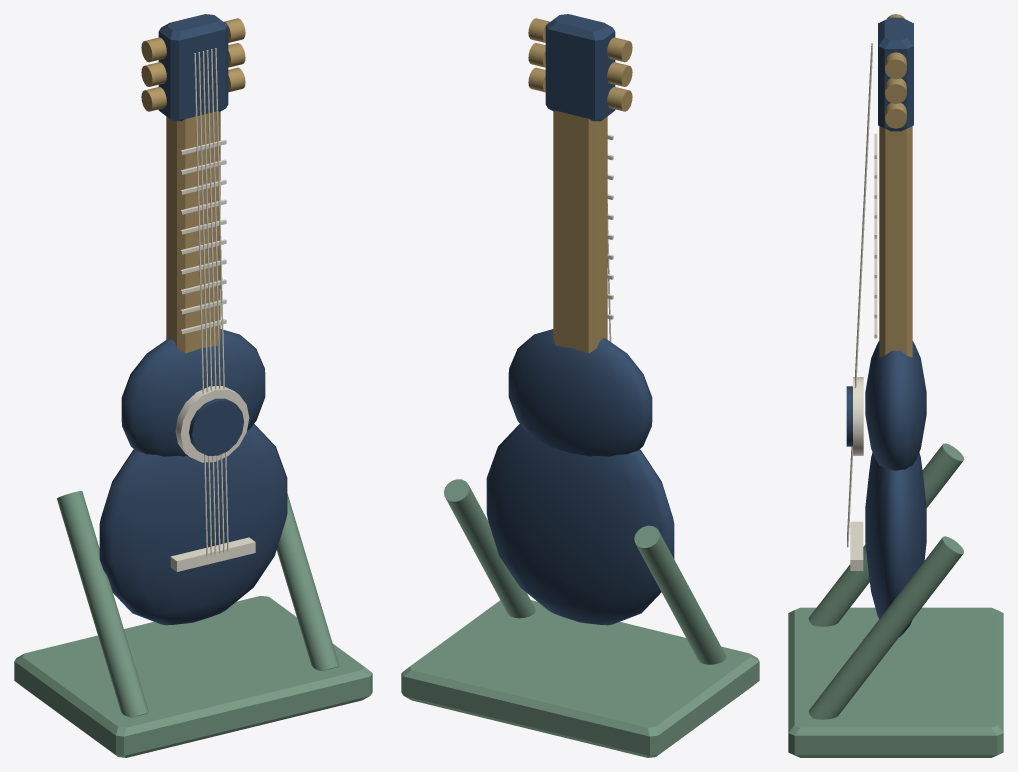
The model's file is v18_special_guitar_stand.glb.
3 views of the same model, side by side, from view 1: azimuth 30°, elevation 25°; view 2: azimuth 150°, elevation 25°; view 3: azimuth 270°, elevation 25° (orthographic).
Parts seen in each view (by area): view 1: _MeshInstance3D_5556, _MeshInstance3D_5559, _MeshInstance3D_5561, _MeshInstance3D_5560, _MeshInstance3D_5557, _MeshInstance3D_5562, _MeshInstance3D_5558, _MeshInstance3D_5564, _MeshInstance3D_5563, _MeshInstance3D_5565, _MeshInstance3D_5570, _MeshInstance3D_5572 (+4 smaller); view 2: _MeshInstance3D_5556, _MeshInstance3D_5559, _MeshInstance3D_5560, _MeshInstance3D_5561, _MeshInstance3D_5562, _MeshInstance3D_5557, _MeshInstance3D_5558; view 3: _MeshInstance3D_5556, _MeshInstance3D_5561, _MeshInstance3D_5559, _MeshInstance3D_5560, _MeshInstance3D_5558, _MeshInstance3D_5557, _MeshInstance3D_5562, _MeshInstance3D_5576, _MeshInstance3D_5563, _MeshInstance3D_5565, _MeshInstance3D_5577, _MeshInstance3D_5569 (+2 smaller).
Part boxes in pixels (bbox=[...]): _MeshInstance3D_5556: bbox=[14, 595, 372, 757]; _MeshInstance3D_5559: bbox=[99, 424, 287, 625]; _MeshInstance3D_5561: bbox=[166, 111, 220, 353]; _MeshInstance3D_5560: bbox=[121, 329, 265, 456]; _MeshInstance3D_5557: bbox=[57, 491, 148, 717]; _MeshInstance3D_5562: bbox=[158, 14, 228, 121]; _MeshInstance3D_5558: bbox=[276, 493, 339, 670]; _MeshInstance3D_5564: bbox=[189, 398, 243, 455]; _MeshInstance3D_5563: bbox=[175, 386, 249, 462]; _MeshInstance3D_5565: bbox=[170, 537, 255, 571]; _MeshInstance3D_5570: bbox=[202, 51, 216, 554]; _MeshInstance3D_5572: bbox=[206, 50, 220, 553]; _MeshInstance3D_5556: bbox=[401, 600, 759, 757]; _MeshInstance3D_5559: bbox=[486, 424, 674, 625]; _MeshInstance3D_5560: bbox=[508, 329, 652, 456]; _MeshInstance3D_5561: bbox=[553, 111, 607, 353]; _MeshInstance3D_5562: bbox=[545, 14, 615, 121]; _MeshInstance3D_5557: bbox=[634, 525, 726, 664]; _MeshInstance3D_5558: bbox=[444, 479, 535, 618]; _MeshInstance3D_5556: bbox=[788, 607, 1003, 757]; _MeshInstance3D_5561: bbox=[879, 126, 912, 357]; _MeshInstance3D_5559: bbox=[865, 452, 926, 637]; _MeshInstance3D_5560: bbox=[865, 341, 926, 470]; _MeshInstance3D_5558: bbox=[808, 536, 963, 719]; _MeshInstance3D_5557: bbox=[808, 443, 964, 626]; _MeshInstance3D_5562: bbox=[878, 17, 913, 131]; _MeshInstance3D_5576: bbox=[847, 53, 872, 547]; _MeshInstance3D_5563: bbox=[853, 377, 863, 455]; _MeshInstance3D_5565: bbox=[850, 521, 863, 570]; _MeshInstance3D_5577: bbox=[885, 52, 906, 79]; _MeshInstance3D_5569: bbox=[885, 103, 906, 128].
Size of the model in its own units: 0.5618 by 1.4 by 0.4078.
